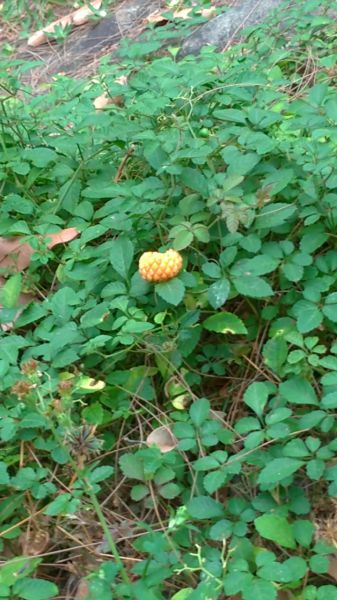eggs: (133, 246, 186, 283)
